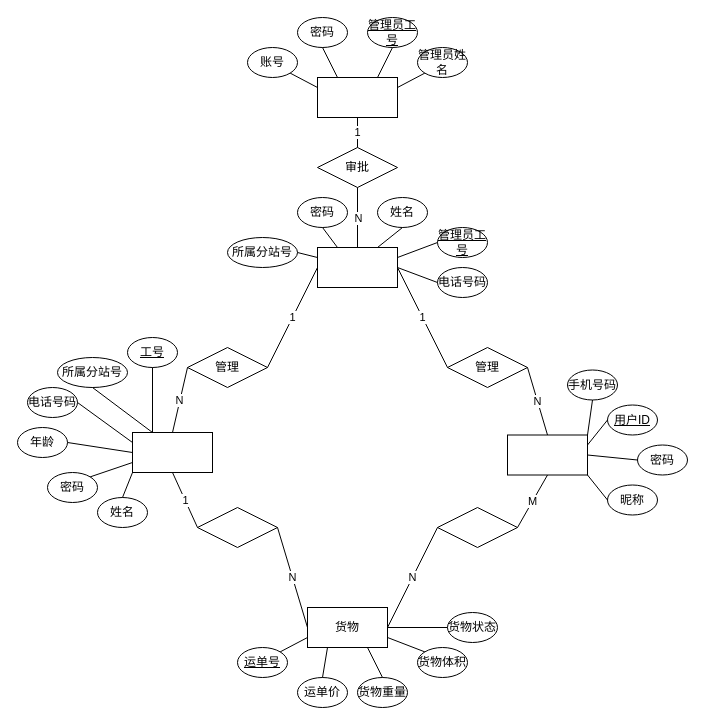
Some shapes in this 705 by 725 pixel diagram are drawn without their labels. The shapes that lost their labels are listed below. From the top down, each one's centre as x and y in pixels, then its label:
the point at 357,97: 系统管理员
the point at 357,267: 分站管理员
the point at 172,452: 快递员
the point at 547,454: 用户
the point at 237,527: 作业
the point at 477,527: 收寄
